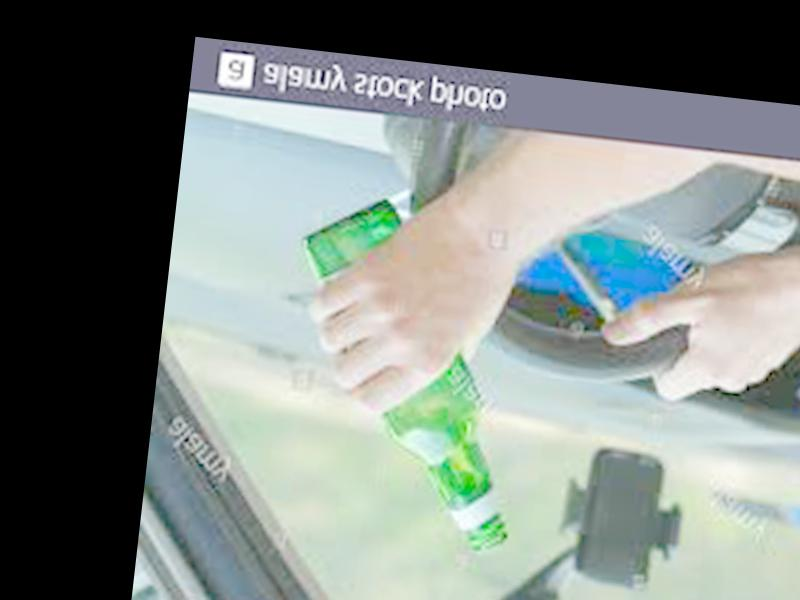Beer: (278, 187, 541, 549)
